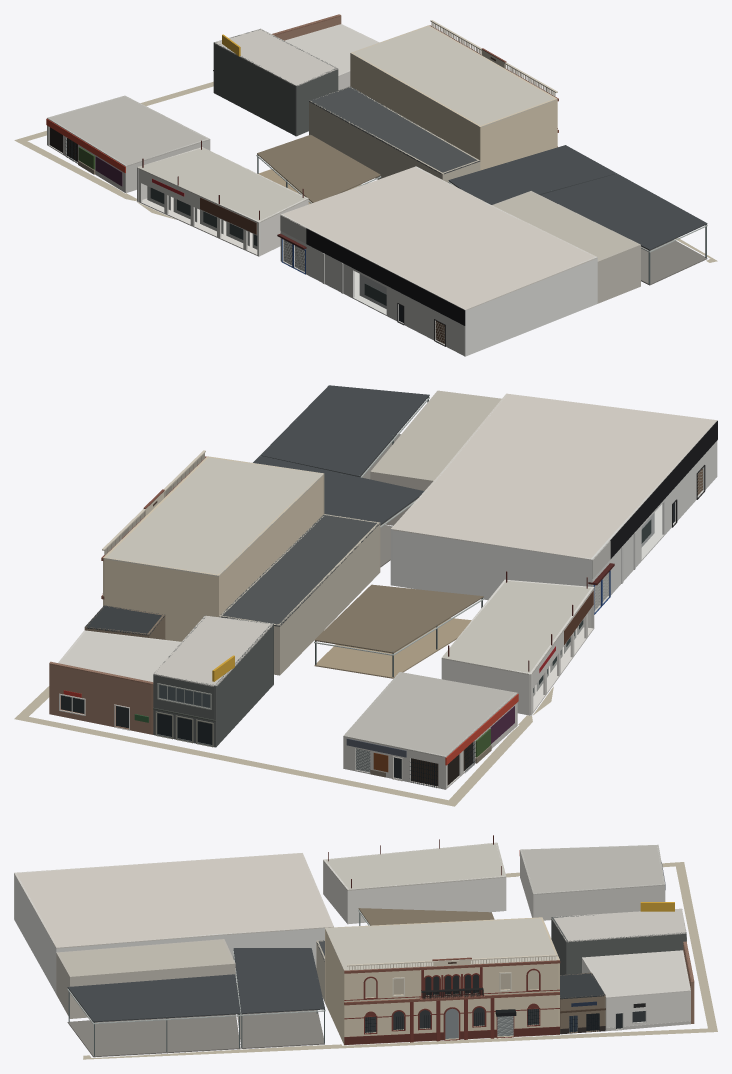
3 renders of one model, top to bottom at view 1: azimuth 30°, elevation 25°; view 2: azimuth 150°, elevation 25°; view 3: azimuth 270°, elevation 25°, orthographic. The views are drawn at different scales.
Parts seen in each view (by area): view 1: edificio; view 2: edificio; view 3: edificio.
Part boxes in pixels (box(x1,y1,x2,y2)): edificio: box(14, 14, 717, 356); edificio: box(14, 385, 717, 806); edificio: box(14, 835, 717, 1059).
Bounding box in the file's own units: 54.36 × 10.45 × 81.8.
